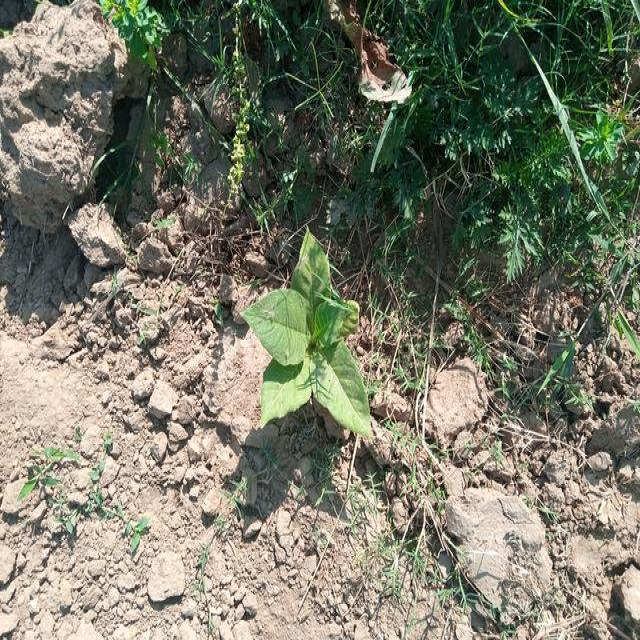crop: (248, 222, 374, 442)
